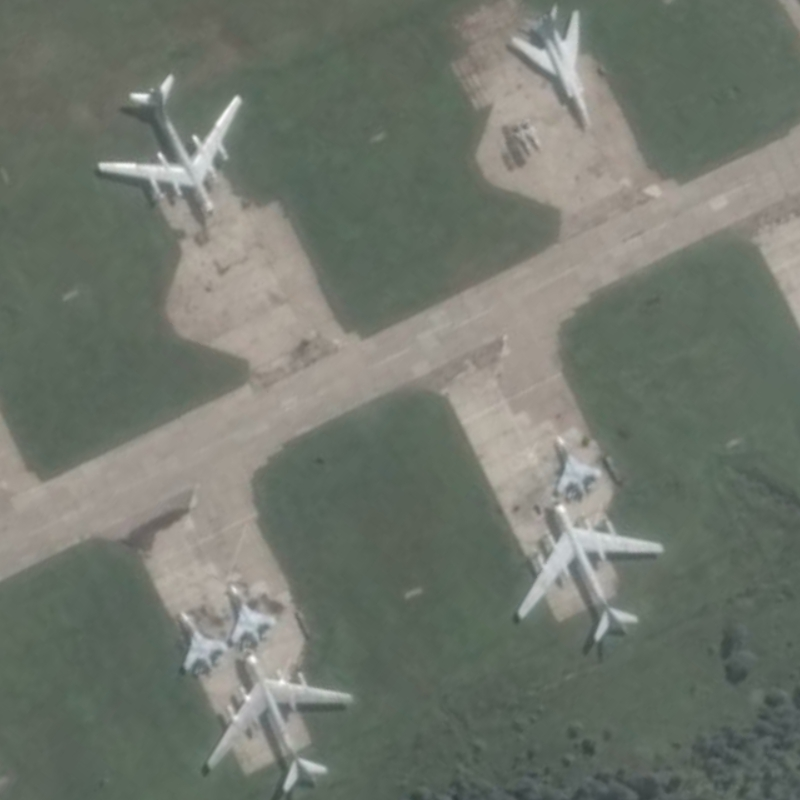A1: (176, 609, 229, 677), (228, 583, 279, 646), (554, 433, 603, 497)
A12: (508, 1, 594, 127)
A17: (513, 497, 667, 645), (204, 647, 355, 795), (95, 71, 244, 219)
